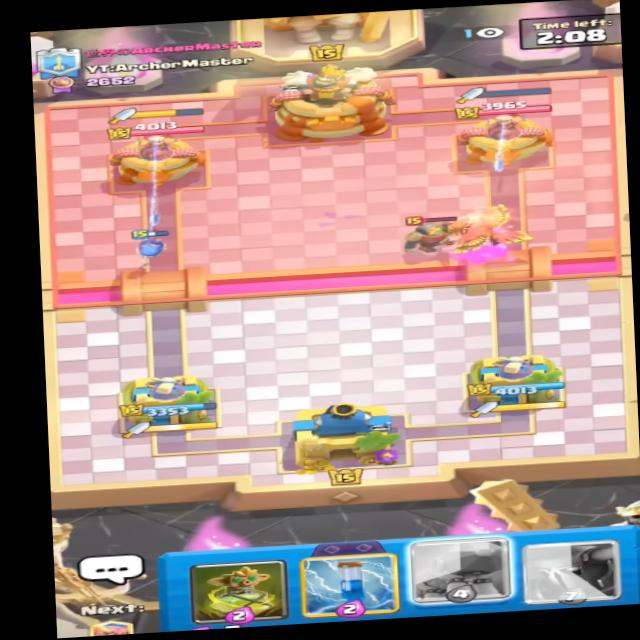knight: (383, 210, 464, 259)
